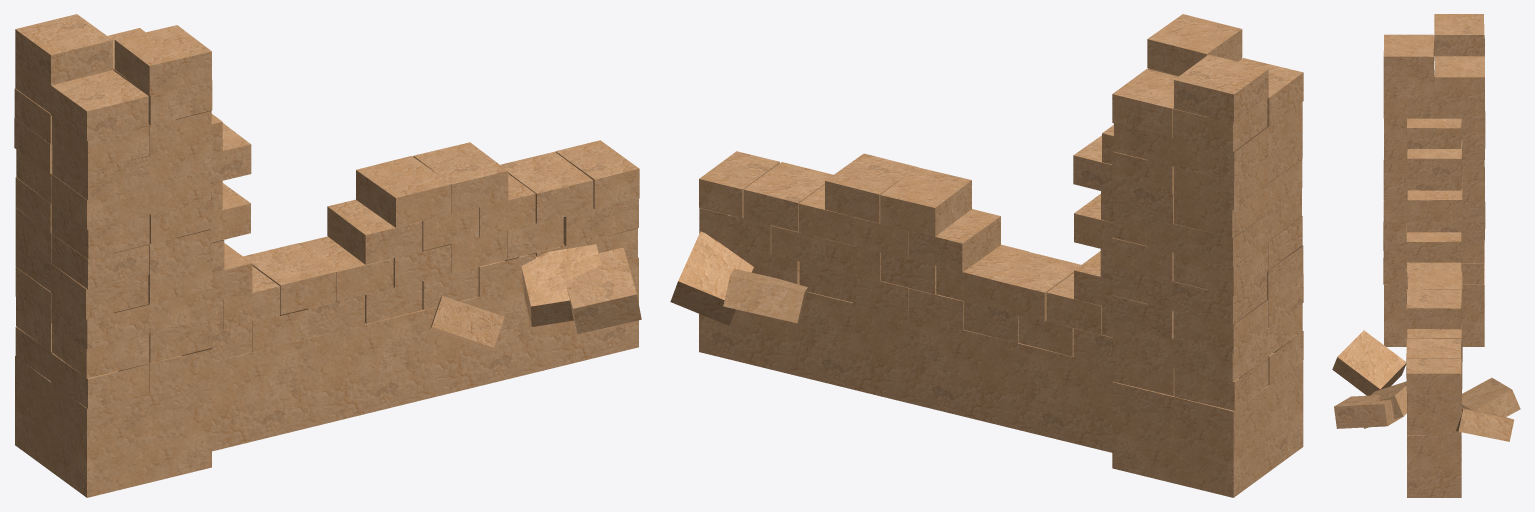
File: wall_run.glb
3 views of the same model, side by side, from view 1: azimuth 30°, elevation 25°; view 2: azimuth 150°, elevation 25°; view 3: azimuth 270°, elevation 25° (orthographic). The views are drawn at different scales.
Visible parts, largest first — view 1: wall_run; view 2: wall_run; view 3: wall_run.
Boxes of the visible parts, box(x1,y1,x2,y2) form: wall_run: box(14, 14, 641, 497); wall_run: box(670, 14, 1303, 497); wall_run: box(1332, 14, 1520, 497).
Bounding box in the file's own units: 10.16 × 7 × 4.12.
Materials: 1 (1 with a texture image).
